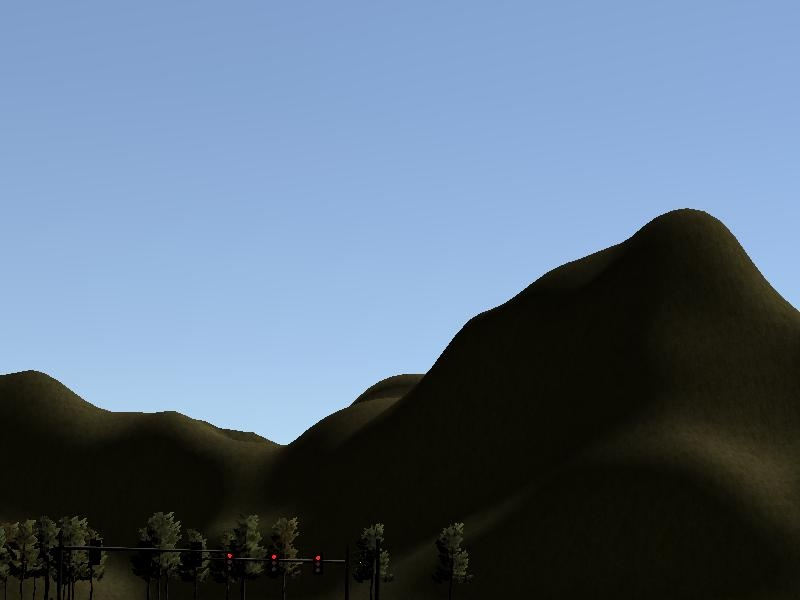RED: (268, 551, 279, 579), (224, 550, 236, 572), (312, 553, 324, 575)
